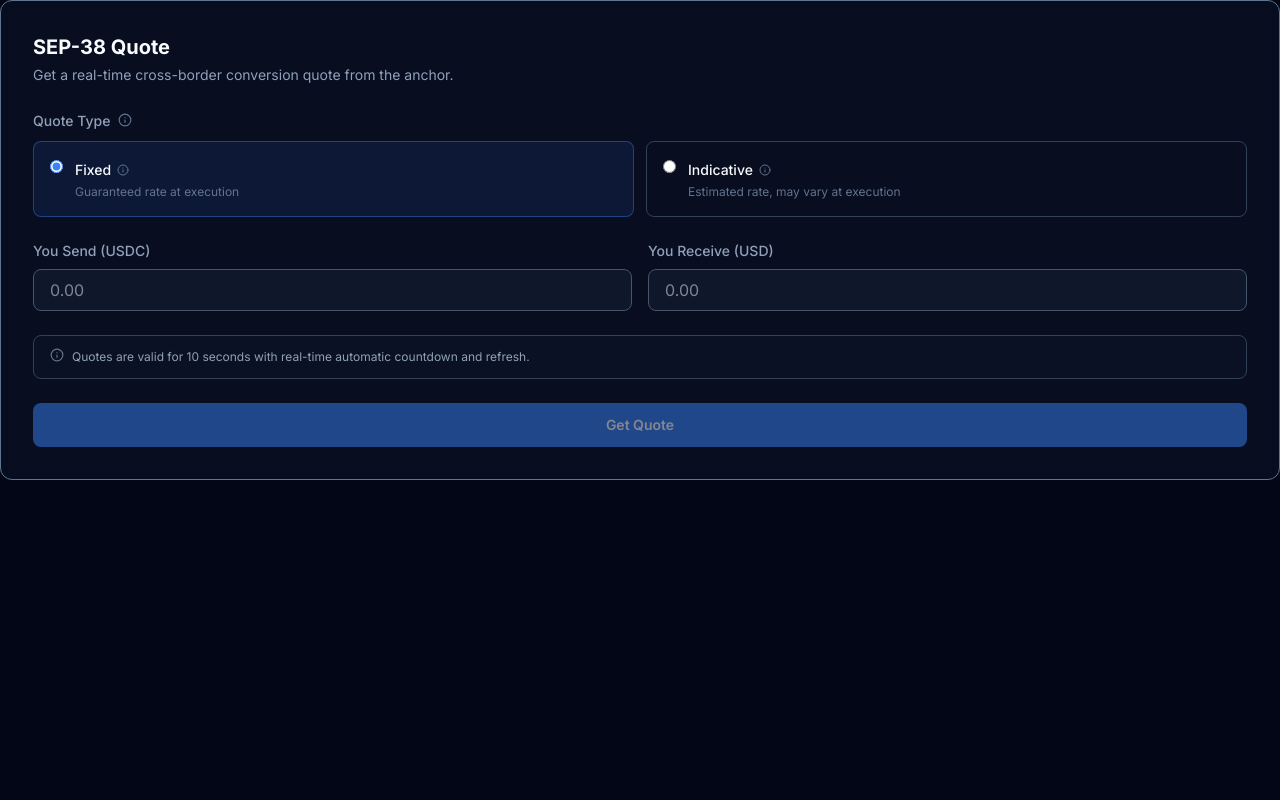
Test: Sep38QuotePanel Component › automatically fetches a new quote when timer reaches zero and input is unchanged
Step 1. Type "100.00" into the number field labelled "You Send (USDC)" → (332, 290), box [33,269,632,311]
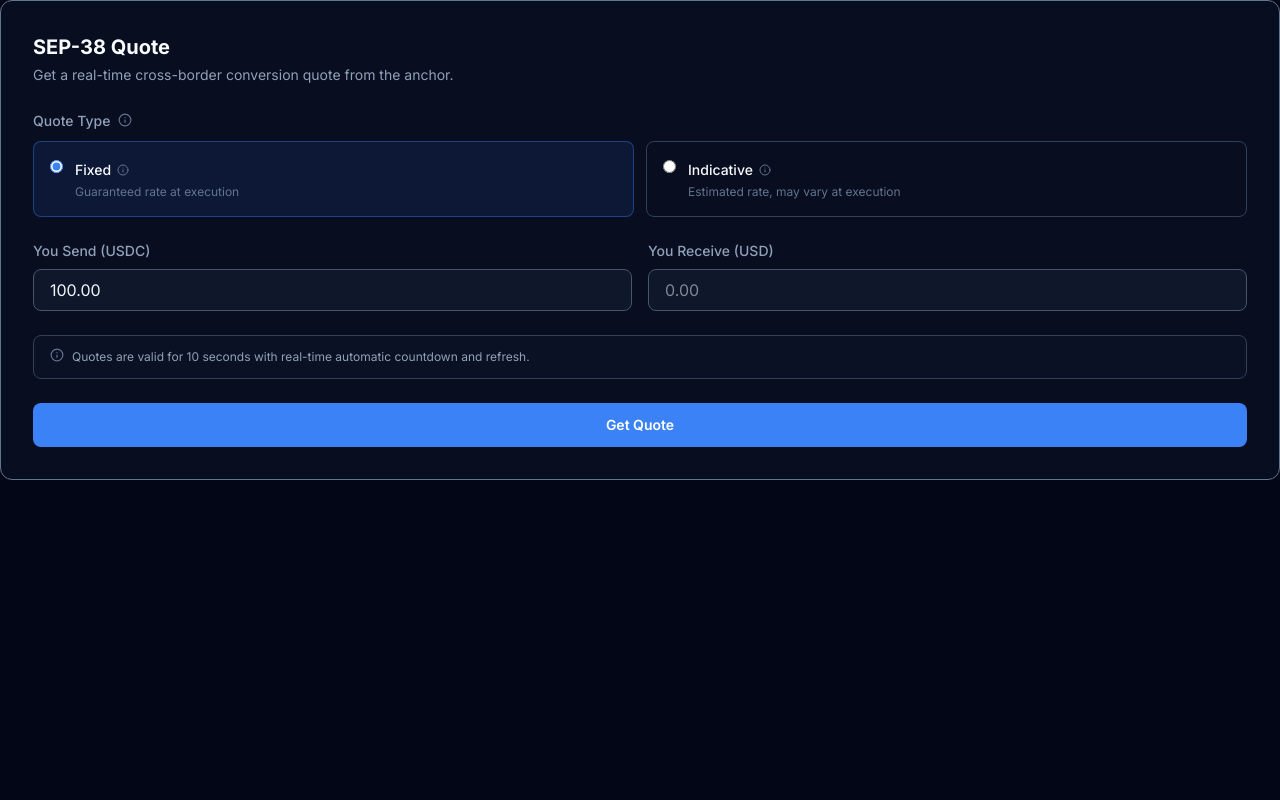
Step 2. Click the button "Get Quote" → (640, 425), box [33,403,1247,447]
Wait 10000 ms
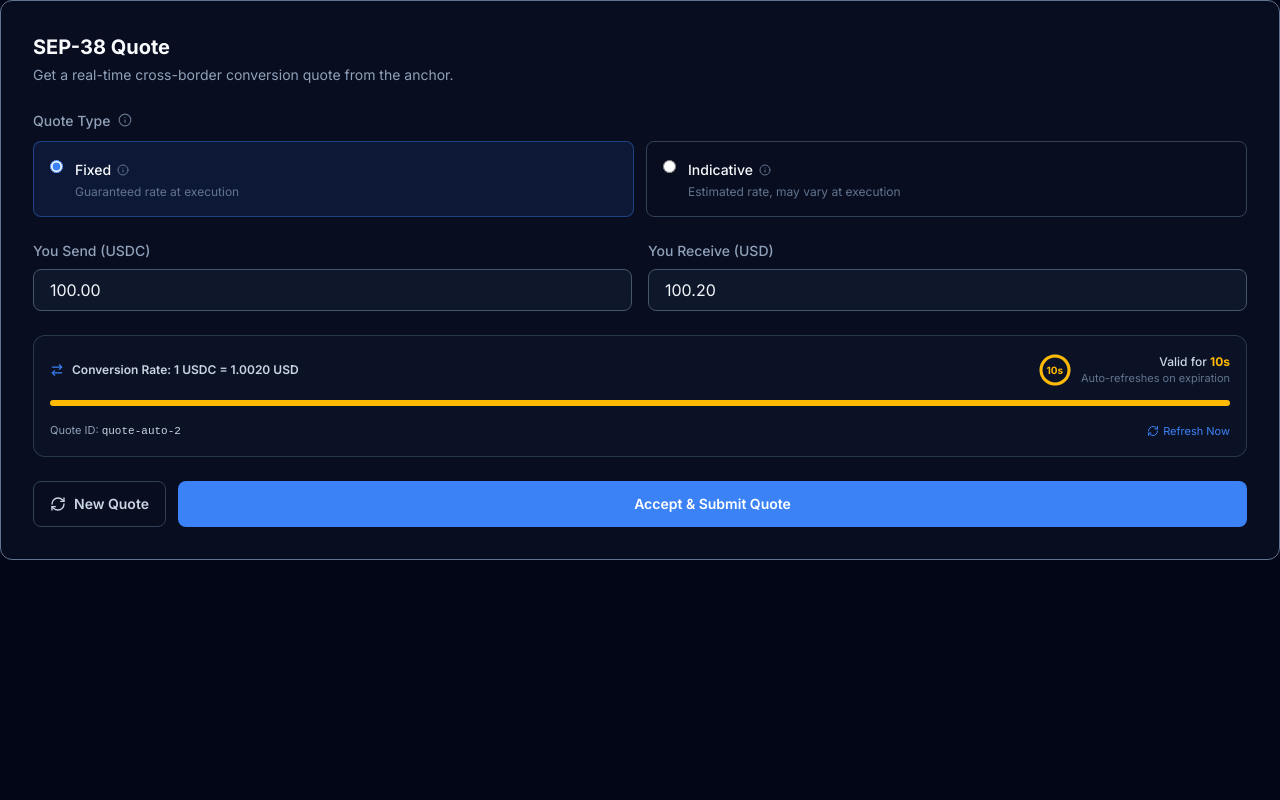
Expected: the text "quote-auto-2" is shown, [102,425,181,437]
